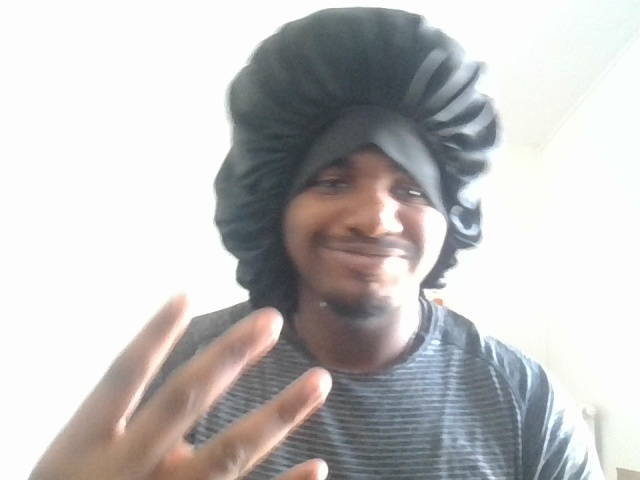I am Better Than Yu: (25, 286, 361, 480)
